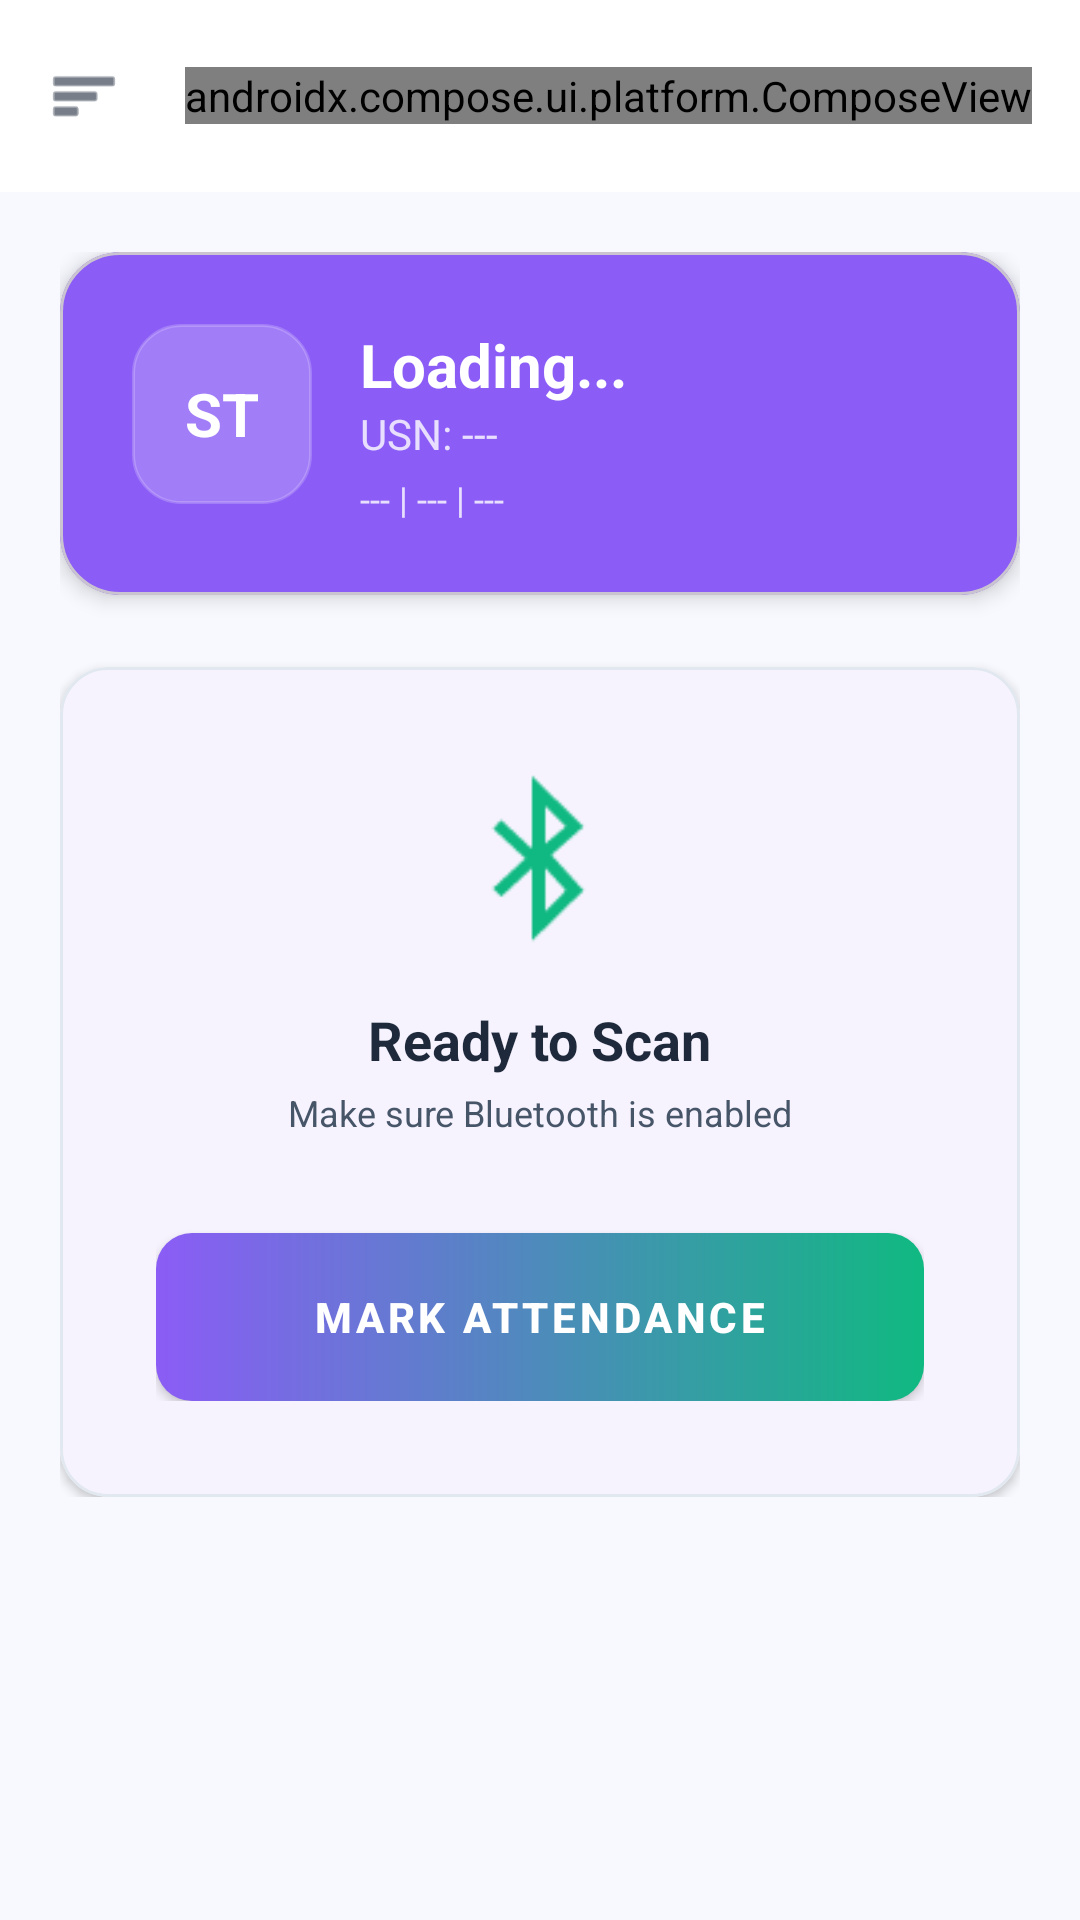

Where to tap for icons on this 1080x1920 app screen, as [x,y]:
sort by size: [84,96]
